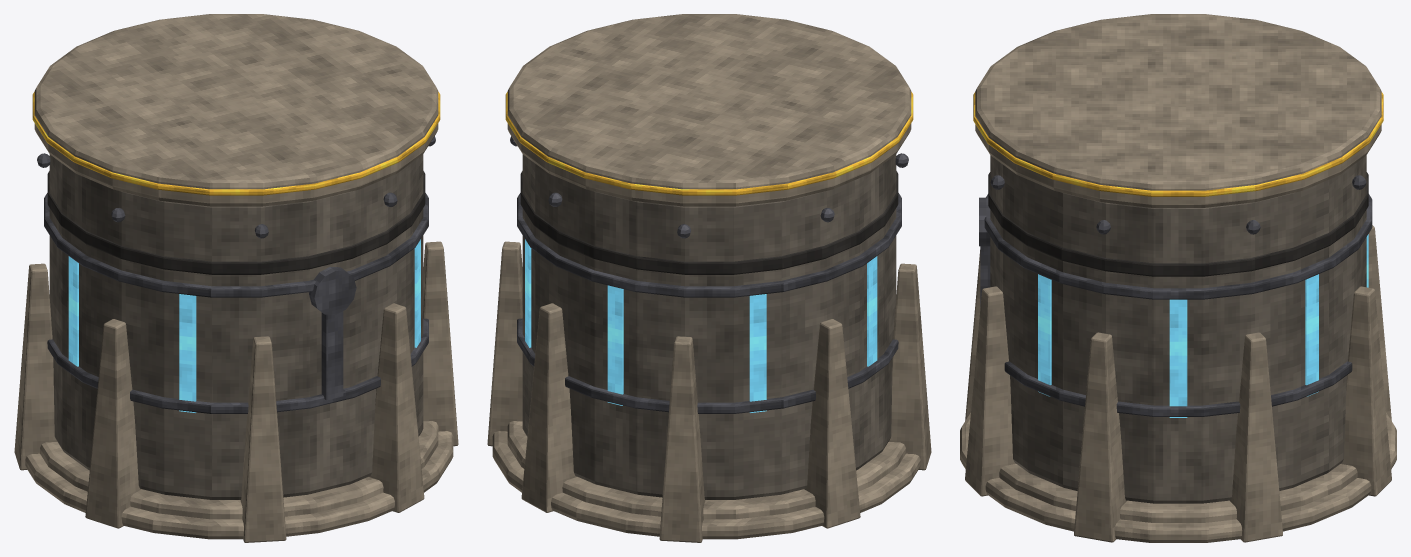
The model's file is shaft_tiered.gltf.
3 views of the same model, side by side, from view 1: azimuth 30°, elevation 25°; view 2: azimuth 150°, elevation 25°; view 3: azimuth 270°, elevation 25° (orthographic).
Parts seen in each view (by area): view 1: shaft_tiered_stone_lite, shaft_tiered_stone, Tier3_stone_lite, Tier2_iron, shaft_tiered_stone_dark, Tier4_rune, shaft_tiered_iron, Tier4_gold; view 2: shaft_tiered_stone, shaft_tiered_stone_lite, Tier3_stone_lite, Tier2_iron, Tier4_rune, shaft_tiered_stone_dark, Tier4_gold; view 3: shaft_tiered_stone, shaft_tiered_stone_lite, Tier3_stone_lite, Tier2_iron, shaft_tiered_stone_dark, Tier4_rune, Tier4_gold, shaft_tiered_iron.
Part boxes in pixels (<box>): shaft_tiered_stone_lite: <box>25,14,453,539</box>; shaft_tiered_stone: <box>49,154,423,499</box>; Tier3_stone_lite: <box>14,241,458,542</box>; Tier2_iron: <box>37,136,435,413</box>; shaft_tiered_stone_dark: <box>47,171,425,274</box>; Tier4_rune: <box>68,239,420,412</box>; shaft_tiered_iron: <box>309,267,356,400</box>; Tier4_gold: <box>32,92,440,195</box>; shaft_tiered_stone: <box>522,154,896,499</box>; shaft_tiered_stone_lite: <box>492,14,920,539</box>; Tier3_stone_lite: <box>487,241,931,542</box>; Tier2_iron: <box>510,136,908,413</box>; Tier4_rune: <box>525,239,877,412</box>; shaft_tiered_stone_dark: <box>520,171,898,274</box>; Tier4_gold: <box>505,92,913,195</box>; shaft_tiered_stone: <box>990,155,1366,503</box>; shaft_tiered_stone_lite: <box>960,14,1396,542</box>; Tier3_stone_lite: <box>965,225,1391,542</box>; Tier2_iron: <box>984,175,1372,416</box>; shaft_tiered_stone_dark: <box>988,172,1368,276</box>; Tier4_rune: <box>1038,234,1368,417</box>; Tier4_gold: <box>973,92,1383,196</box>; shaft_tiered_iron: <box>979,197,990,306</box>.
Size of the model in its own units: 0.8909 by 0.8 by 0.8909.
Materials: 6 (6 with a texture image).
